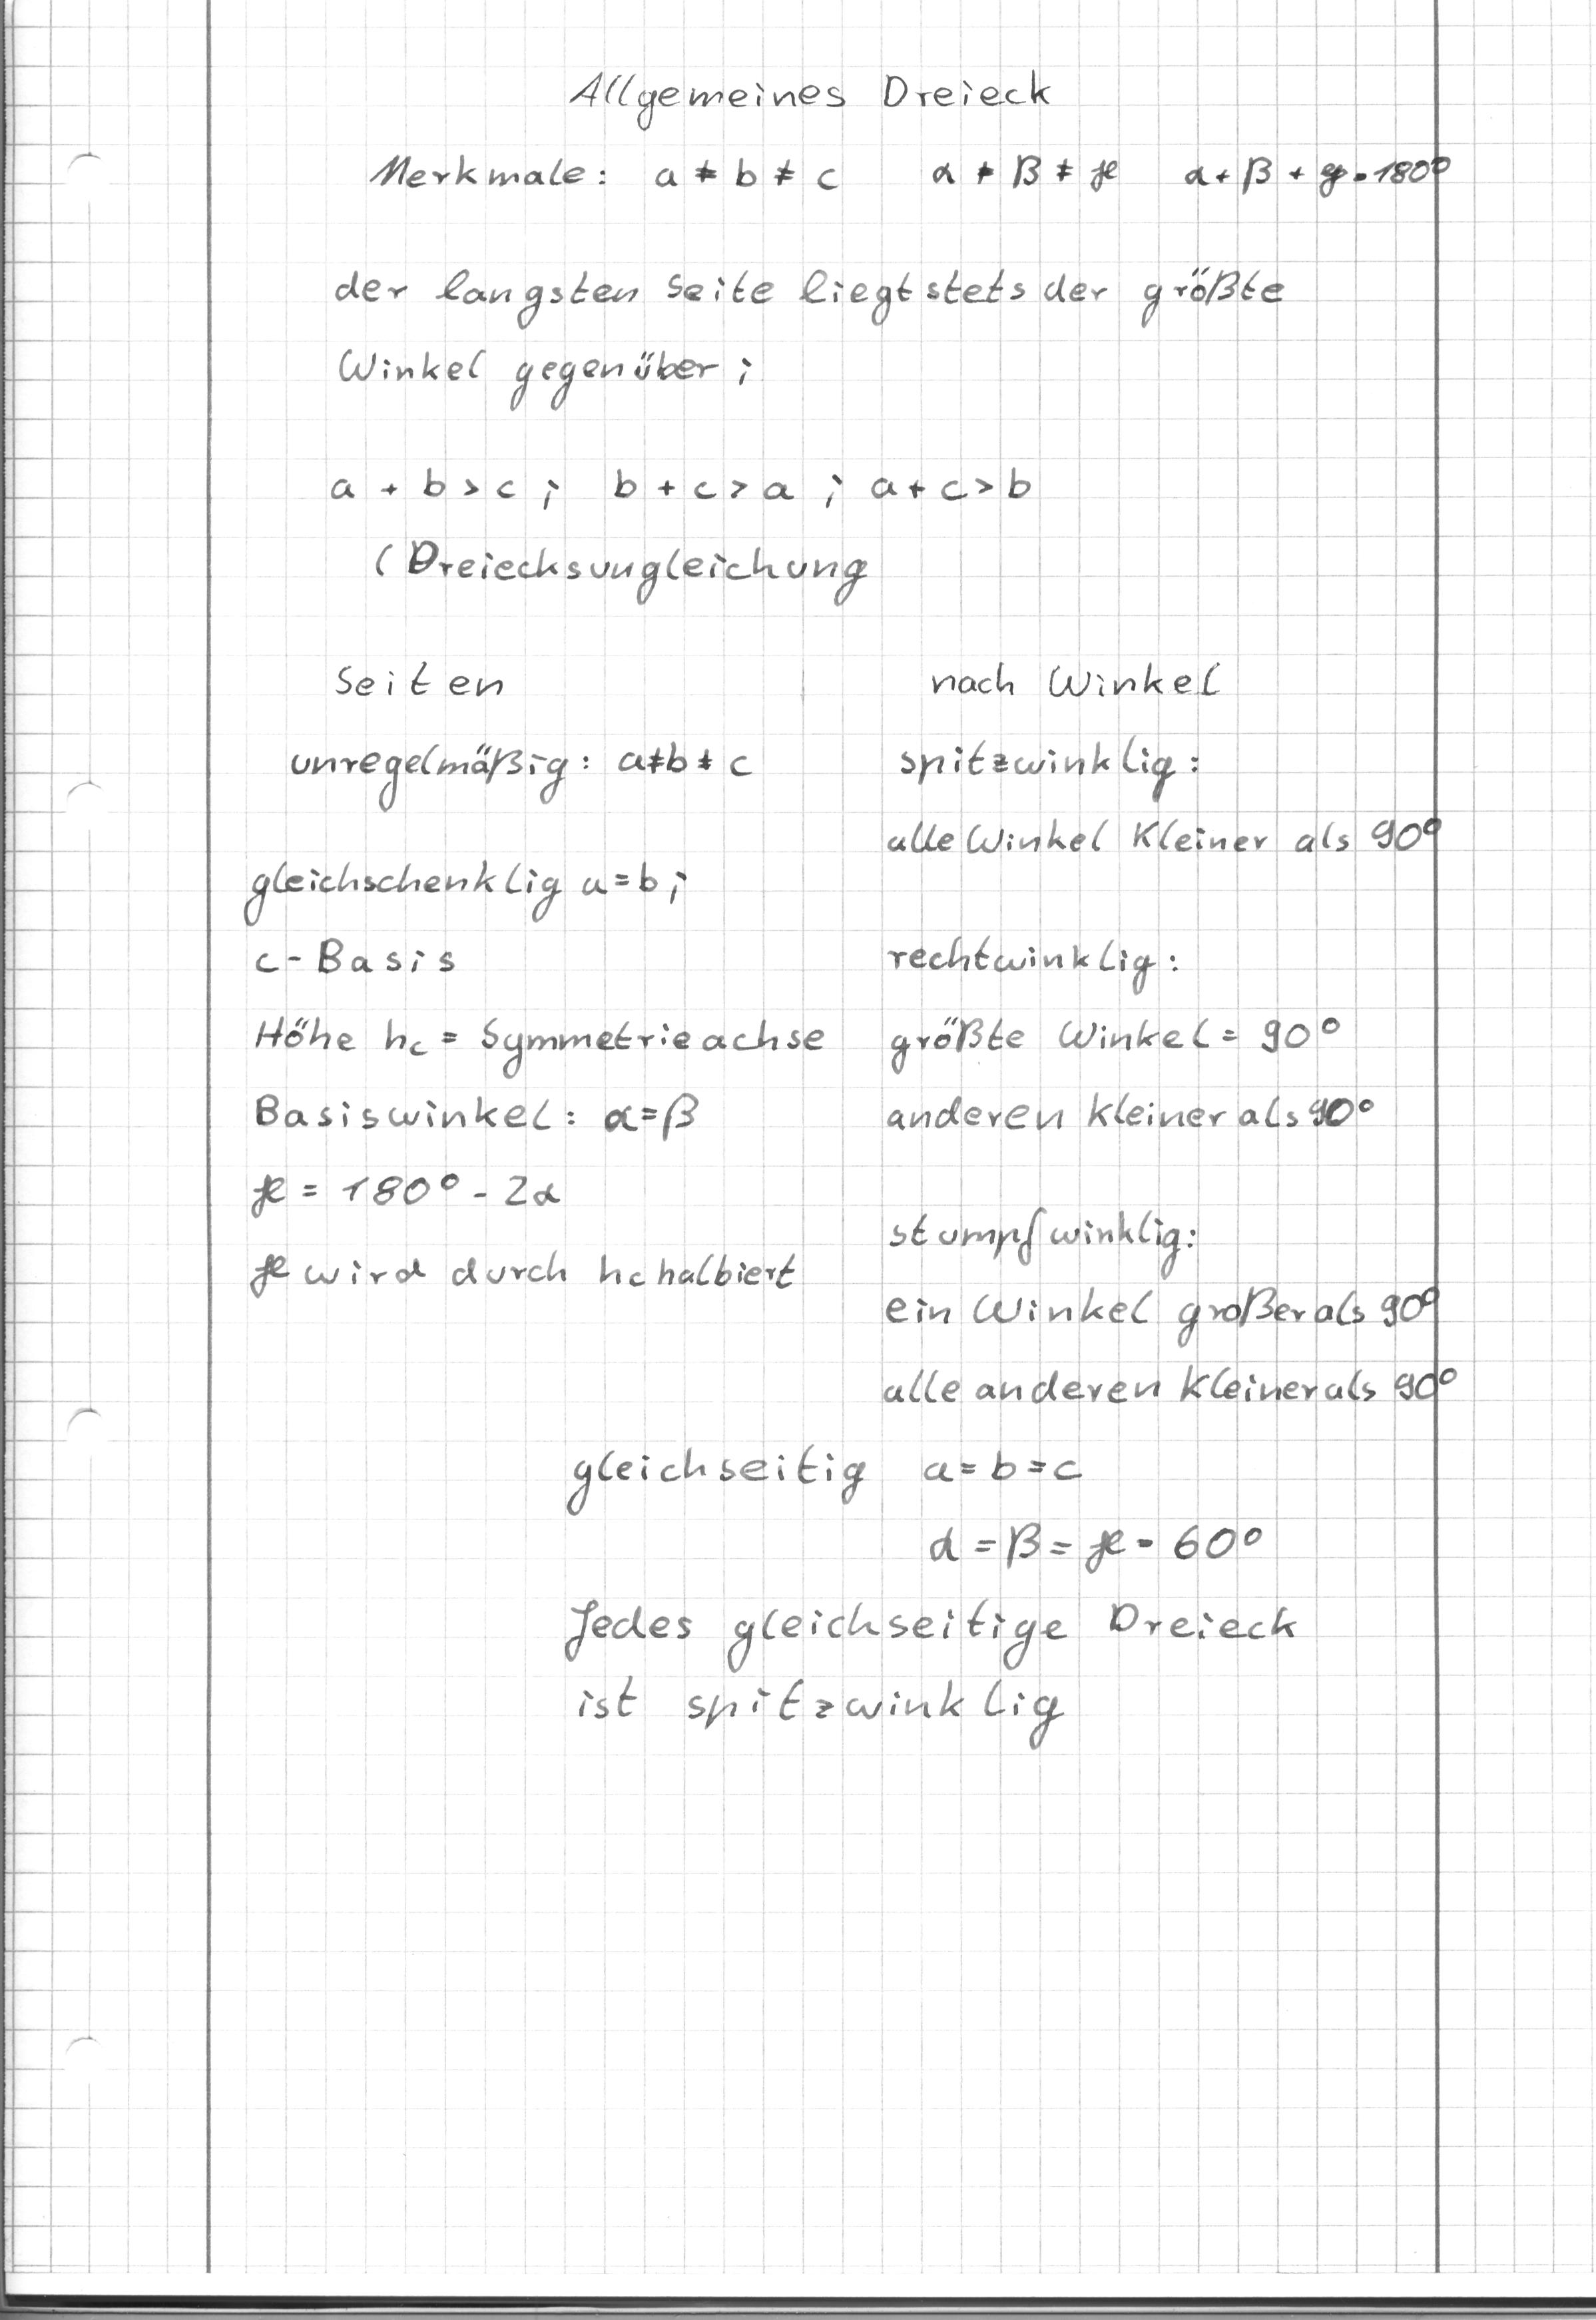word: (316, 249, 1301, 424), (874, 1201, 1467, 1422), (558, 1589, 1306, 1759), (316, 449, 1041, 621), (341, 119, 1466, 227), (878, 924, 1389, 1146), (241, 1006, 828, 1150), (872, 727, 1459, 869), (241, 1165, 808, 1308), (230, 847, 697, 994), (270, 721, 761, 828), (916, 1444, 1270, 1584), (555, 1421, 872, 1530)
